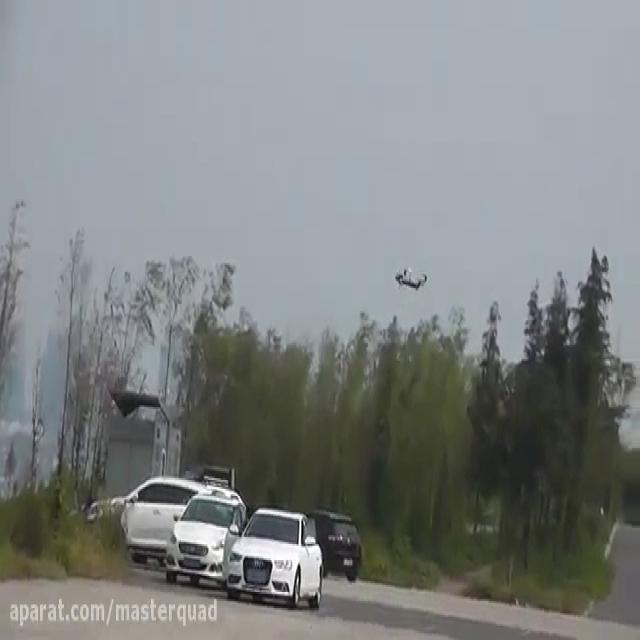drone: (391, 262, 429, 294)
